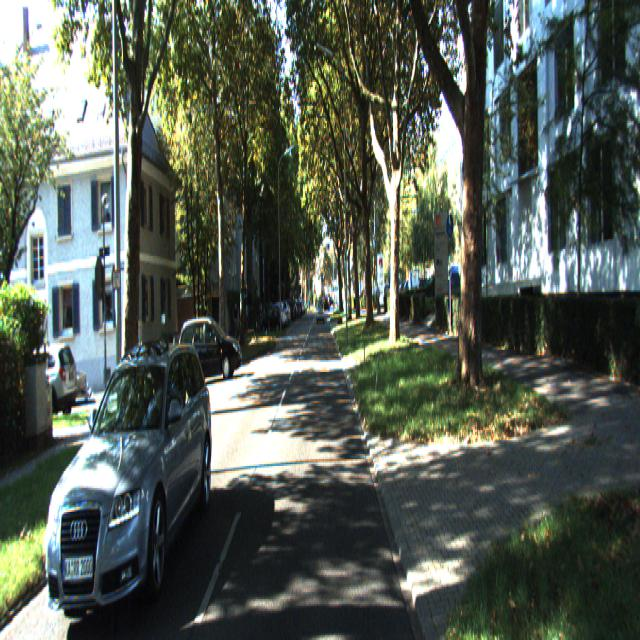Car: (45, 337, 215, 617), (179, 312, 243, 384)
